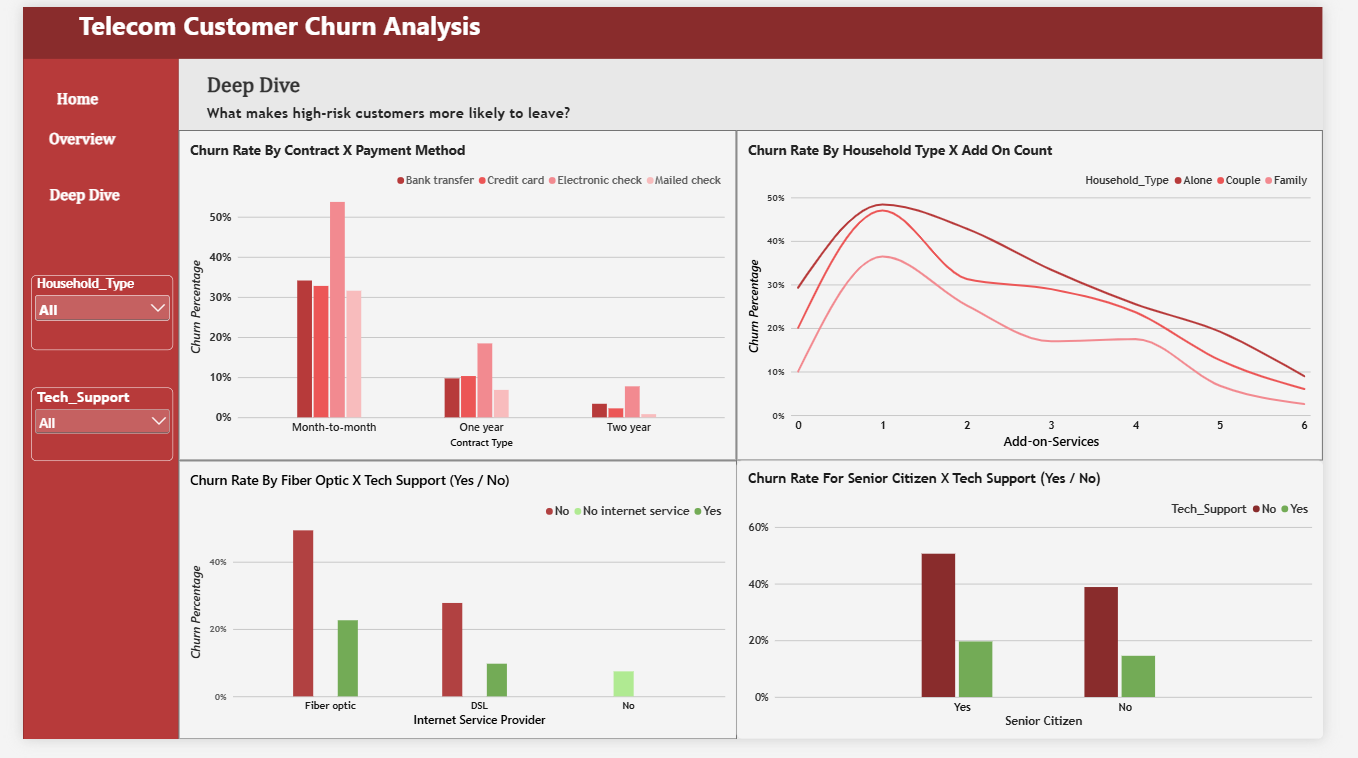

The page's visual inventory and layout, read from the dashboard file:
{"tool":"powerbi","page":{"name":"Deep Dive","canvas":[1920,1080],"ordinal":2},"visuals":[{"type":"shape","box":[0,0,229.8,1287.2],"z":0},{"type":"shape","box":[0,0,1919.1,76.6],"z":1000},{"type":"textbox","box":[72.5,0,980,57.5],"z":2000},{"type":"textbox","box":[246.3,97.7,651.4,46.8],"z":3000},{"type":"textbox","box":[34,183,170.2,34],"z":4000},{"type":"textbox","box":[34,263.8,170.2,36.2],"z":5000},{"type":"textbox","box":[246.5,143.6,975.4,40.6],"z":6000},{"type":"clusteredColumnChart","title":"Churn Rate By Contract X Payment Method","fields":{"Category":["Telcom_Churn_Clean.Contract"],"Series":["Telcom_Churn_Clean.Payment_Method"],"Y":["Telcom_Churn_Clean.Churn Rate %"]},"box":[229.8,182.8,823.5,487.5],"z":7000},{"type":"clusteredColumnChart","title":"Churn Rate By Fiber Optic X Tech Support (Yes / No)","fields":{"Category":["Telcom_Churn_Clean.Internet_Service"],"Series":["Telcom_Churn_Clean.Tech_Support"],"Y":["Telcom_Churn_Clean.Churn Rate %"]},"box":[229.1,669.4,824.5,411.1],"z":8000},{"type":"lineChart","title":"Churn Rate By Household Type X Add On Count","fields":{"Category":["Telcom_Churn_Clean.Add_On_Count"],"Series":["Telcom_Churn_Clean.Household_Type"],"Y":["Telcom_Churn_Clean.Churn Rate %"]},"box":[1053.3,182.8,865.3,487.5],"z":9000},{"type":"clusteredColumnChart","title":"Churn Rate For Senior Citizen X Tech Support (Yes / No)","fields":{"Category":["Telcom_Churn_Clean.Senior_Citizen_Status"],"Series":["Telcom_Churn_Clean.Tech_Support"],"Y":["Telcom_Churn_Clean.Churn Rate %"]},"box":[1053.6,669.4,867.1,411.1],"z":10000},{"type":"textbox","box":[50,122.5,172.5,60],"z":11000},{"type":"actionButton","box":[20,97.5,150,67.5],"z":12000},{"type":"actionButton","box":[19.1,183,151.1,51.1],"z":13000},{"type":"actionButton","box":[0,248.9,229.8,68.1],"z":14000},{"type":"slicer","fields":{"Values":["Telcom_Churn_Clean.Household_Type"]},"box":[12.1,395.8,209.9,111],"z":15000},{"type":"slicer","fields":{"Values":["Telcom_Churn_Clean.Tech_Support"]},"box":[12.1,562.3,209.9,108.6],"z":16000}]}

Visuals, with their boxes in screenshot pixels (x1, y1, x2, y2), scaled from the page's 1920x1080 canvas onto the 1358x758 screenshot:
shape: 0, 0, 163, 757
shape: 0, 0, 1357, 54
textbox: 51, 0, 744, 40
textbox: 174, 69, 635, 101
textbox: 24, 128, 144, 152
textbox: 24, 185, 144, 211
textbox: 174, 101, 864, 129
"Churn Rate By Contract X Payment Method" clusteredColumnChart: 163, 128, 745, 470
"Churn Rate By Fiber Optic X Tech Support (Yes / No)" clusteredColumnChart: 162, 470, 745, 757
"Churn Rate By Household Type X Add On Count" lineChart: 745, 128, 1357, 470
"Churn Rate For Senior Citizen X Tech Support (Yes / No)" clusteredColumnChart: 745, 470, 1357, 757
textbox: 35, 86, 157, 128
actionButton: 14, 68, 120, 116
actionButton: 14, 128, 120, 164
actionButton: 0, 175, 163, 222
slicer - Telcom_Churn_Clean.Household_Type: 9, 278, 157, 356
slicer - Telcom_Churn_Clean.Tech_Support: 9, 395, 157, 471
